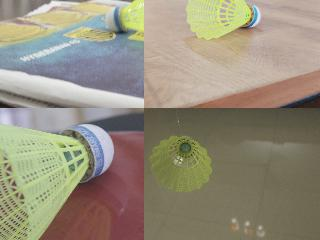shuttlecock: (0, 116, 114, 239), (149, 136, 211, 192), (185, 0, 261, 41), (105, 0, 143, 42)
